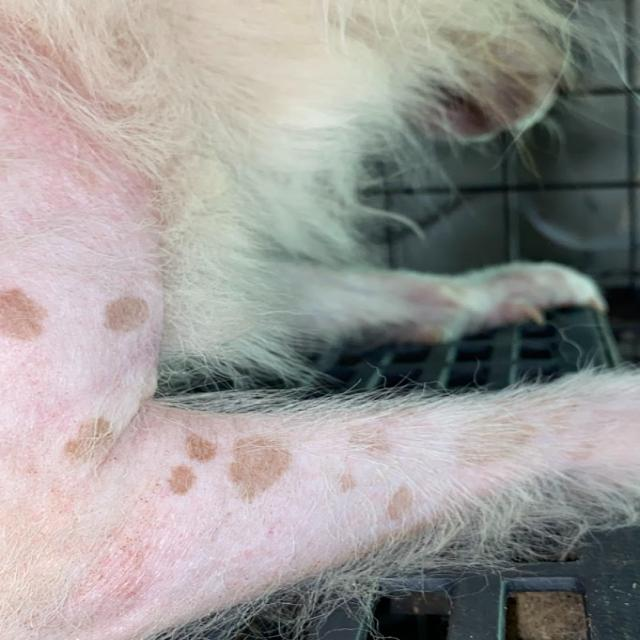demodicosis: (67, 425, 518, 575)
